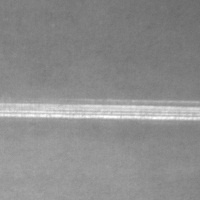scratches: (0, 99, 199, 122)
